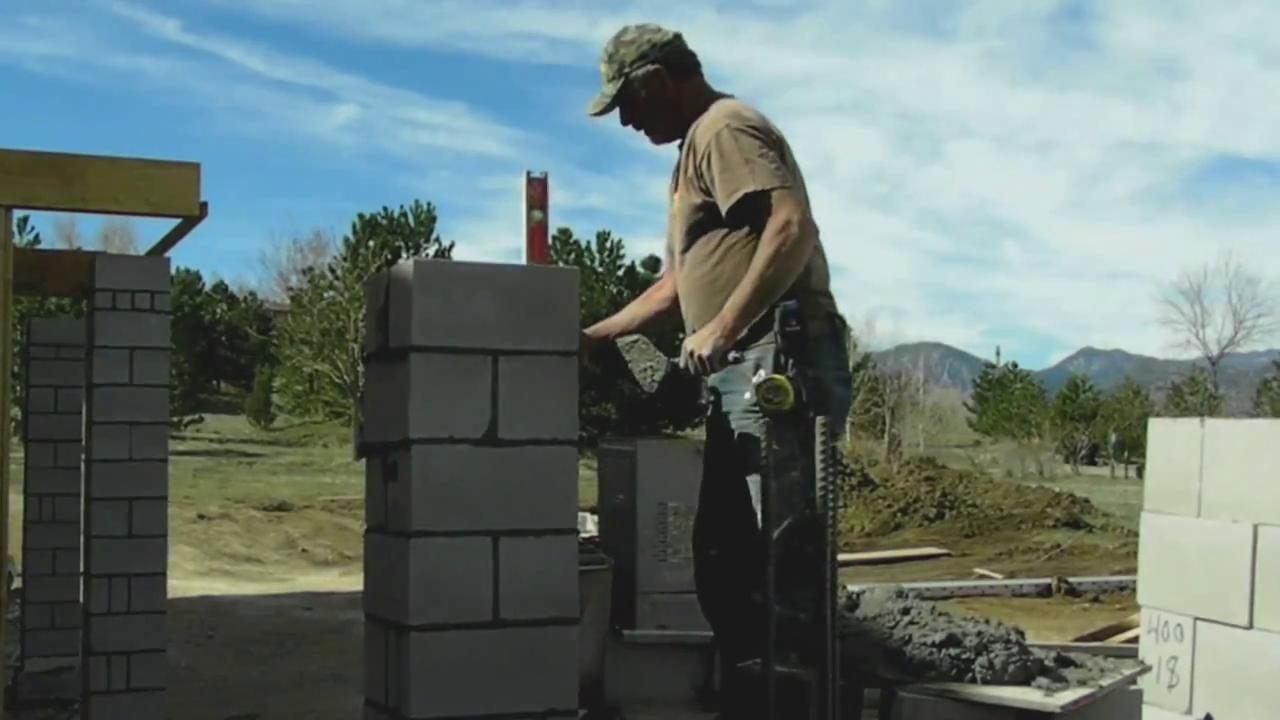victim: (567, 17, 864, 716)
